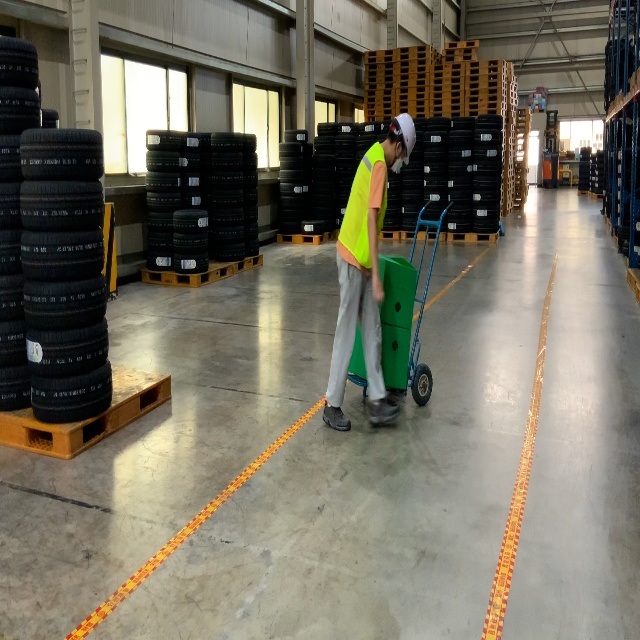Box: (348, 320, 412, 391), (378, 253, 418, 331)
Worker: (322, 111, 417, 432)
